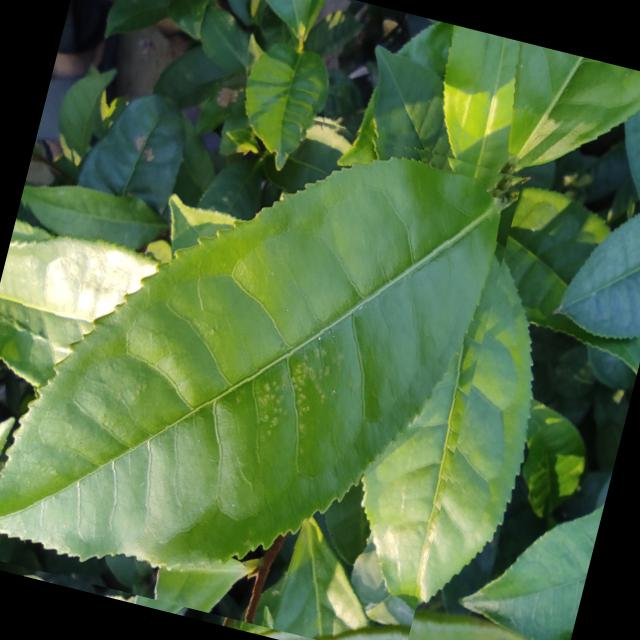Category D(7+ days, Not for Tea): (0, 47, 526, 640)
